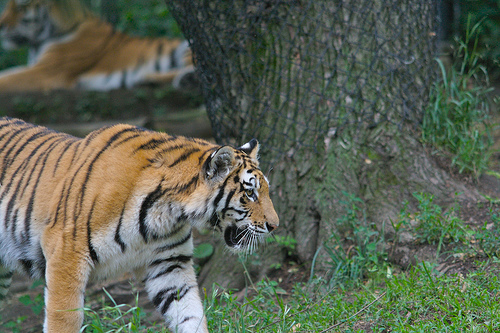Tigre: (8, 104, 289, 327)
